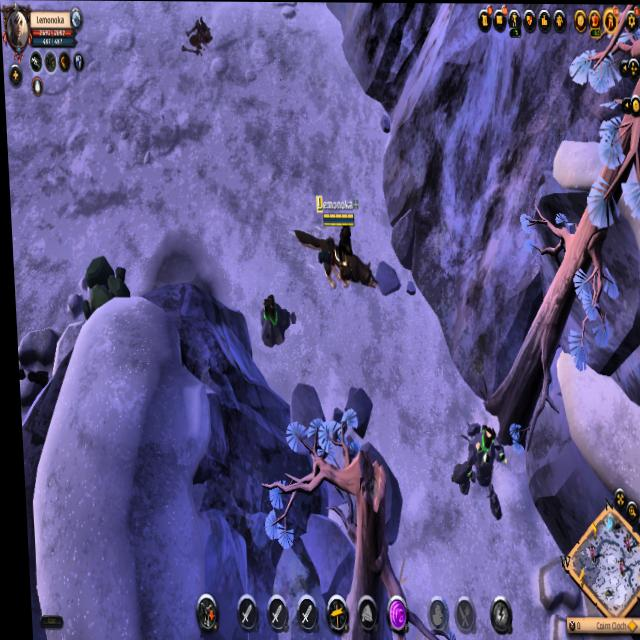ore tier 3: (252, 292, 289, 352)
